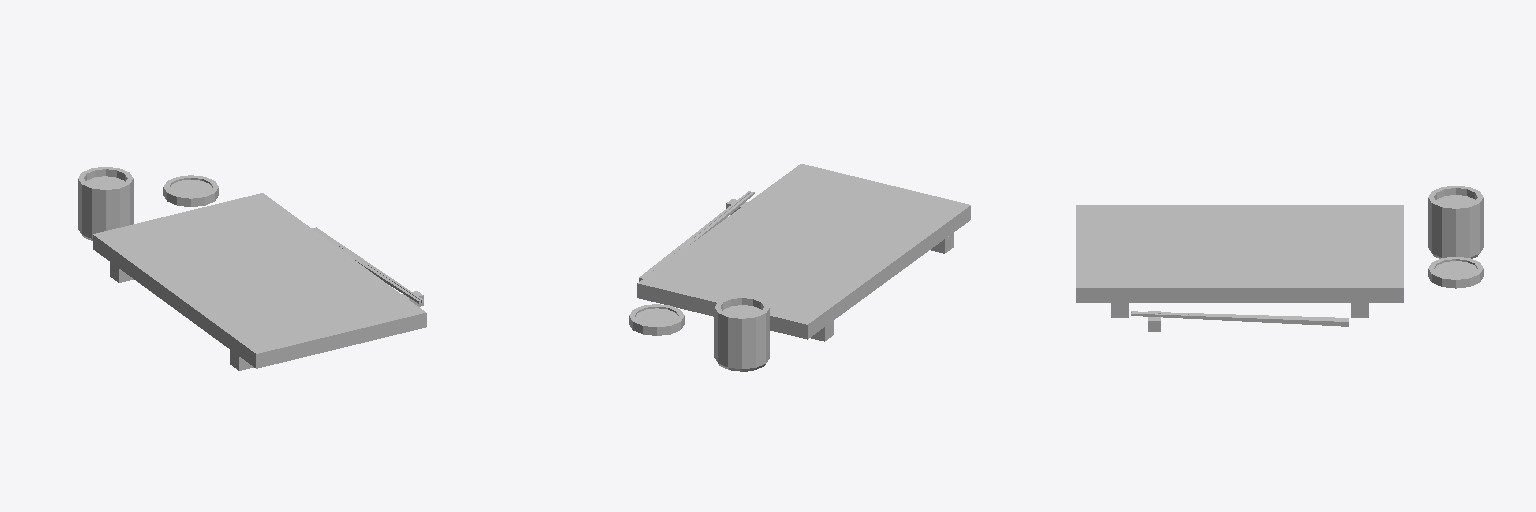
File: sushiSet.obj
3 renders of one model, left to right at view 1: azimuth 30°, elevation 25°; view 2: azimuth 150°, elevation 25°; view 3: azimuth 270°, elevation 25°, orthographic.
Parts seen in each view (by area): view 1: Cube.009, Cylinder_Cylinder.001, Cylinder.002_Cylinder.003, Cylinder.003_Cylinder.004; view 2: Cube.009, Cylinder_Cylinder.001, Cylinder.002_Cylinder.003, Cylinder.003_Cylinder.004; view 3: Cube.009, Cylinder_Cylinder.001, Cube.014, Cylinder.002_Cylinder.003, Cylinder.003_Cylinder.004.
Part boxes in pixels (x1,y1,x2,y2): Cube.009: (93,193,426,368); Cylinder_Cylinder.001: (78,167,133,240); Cylinder.002_Cylinder.003: (163,175,218,206); Cylinder.003_Cylinder.004: (170,180,211,195); Cube.009: (637,164,970,339); Cylinder_Cylinder.001: (714,295,769,371); Cylinder.002_Cylinder.003: (629,304,684,335); Cylinder.003_Cylinder.004: (636,308,677,324); Cube.009: (1076,205,1403,302); Cylinder_Cylinder.001: (1428,186,1483,258); Cube.014: (1131,313,1348,326); Cylinder.002_Cylinder.003: (1428,257,1483,288); Cylinder.003_Cylinder.004: (1435,261,1476,277).
Bounding box in the file's own units: 1.07 × 0.2869 × 1.87.